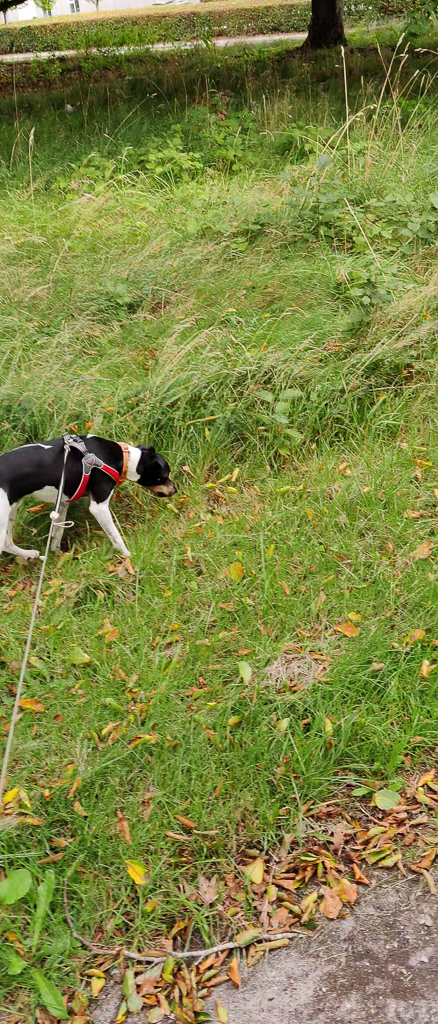Dog: (0, 423, 184, 576)
